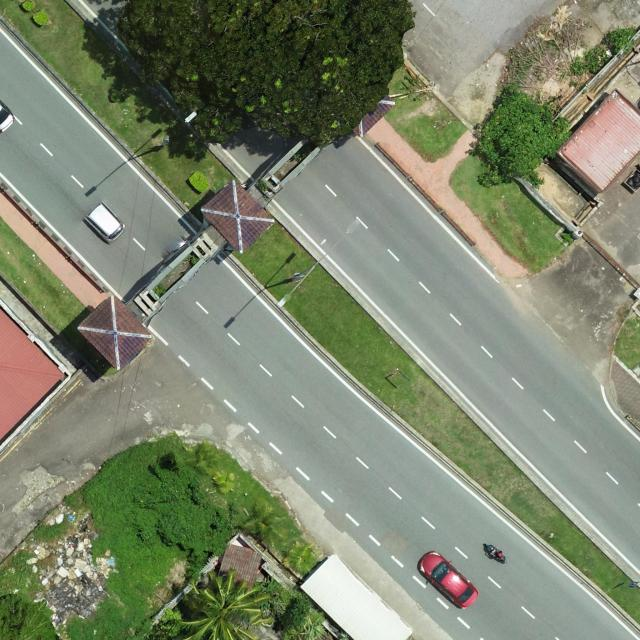Tree: (109, 0, 417, 154), (468, 85, 576, 188), (175, 569, 276, 640), (0, 592, 59, 640), (242, 498, 286, 548), (182, 438, 220, 474), (281, 541, 315, 575), (253, 575, 279, 612), (158, 608, 182, 639), (211, 468, 236, 494)
